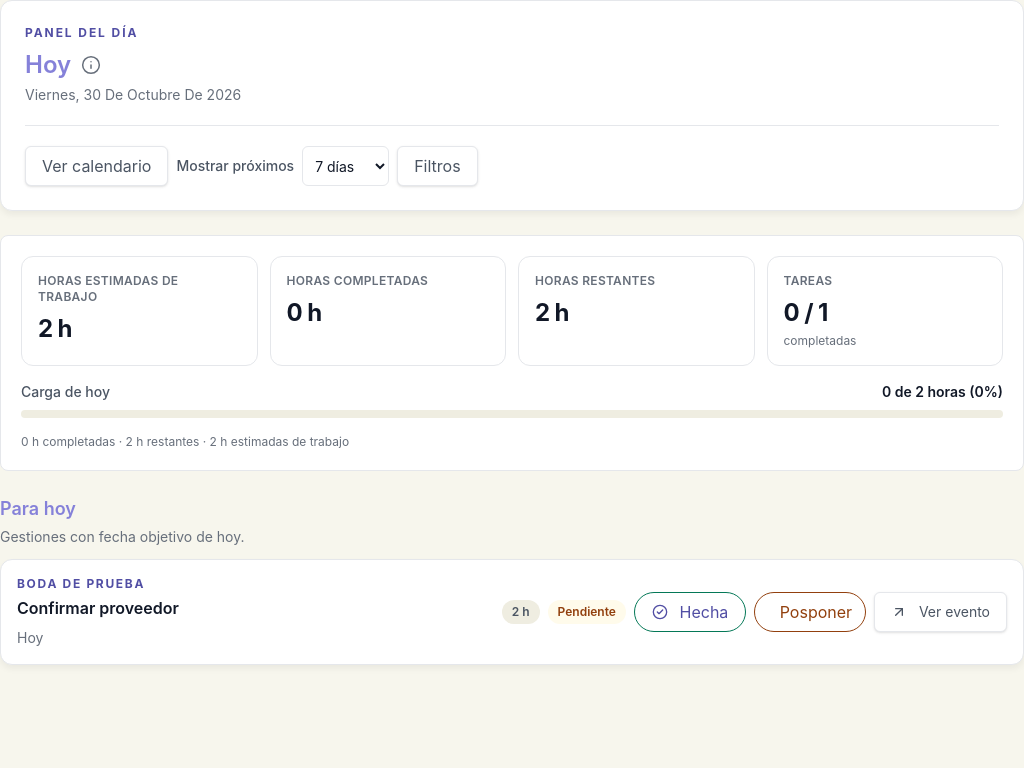
Scenario: panel de hoy: registrar una gestión › exige un motivo al posponer y no envía nada si falta
Click the button "Posponer": x=810, y=612 [754,592,866,632]
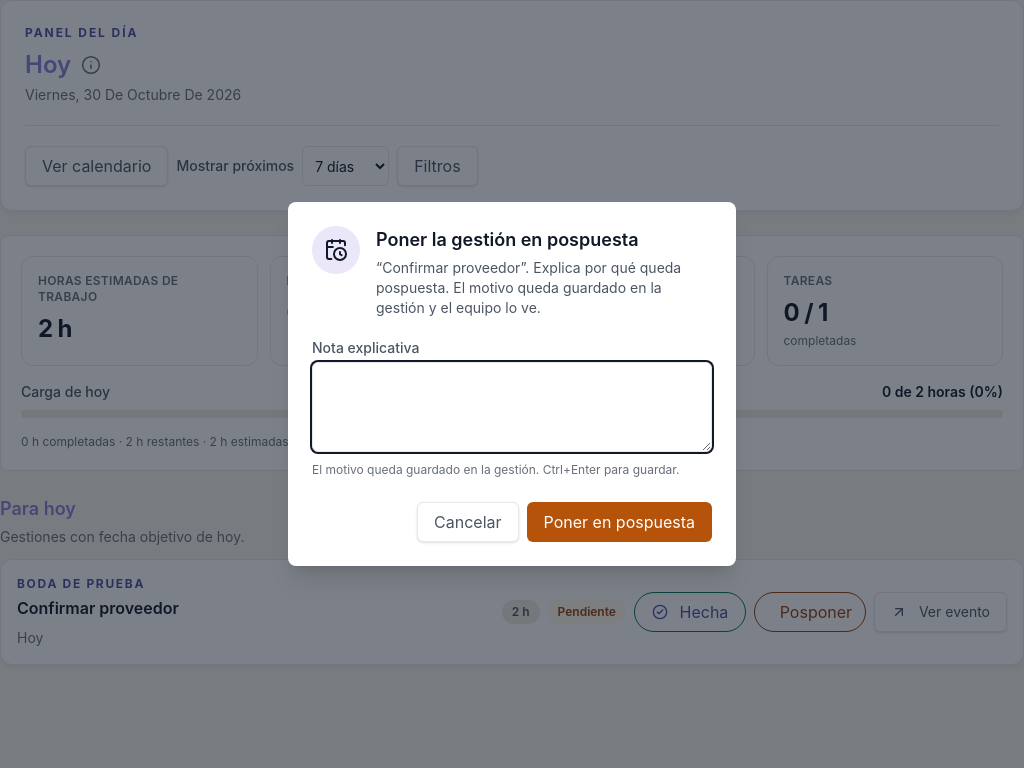
expect the text box labelled "Nota explicativa" is shown: met, box [312,362,712,452]
expect the button "Poner en pospuesta" is shown: met
Click the button "Poner en pospuesta": x=619, y=522 [526,502,712,542]
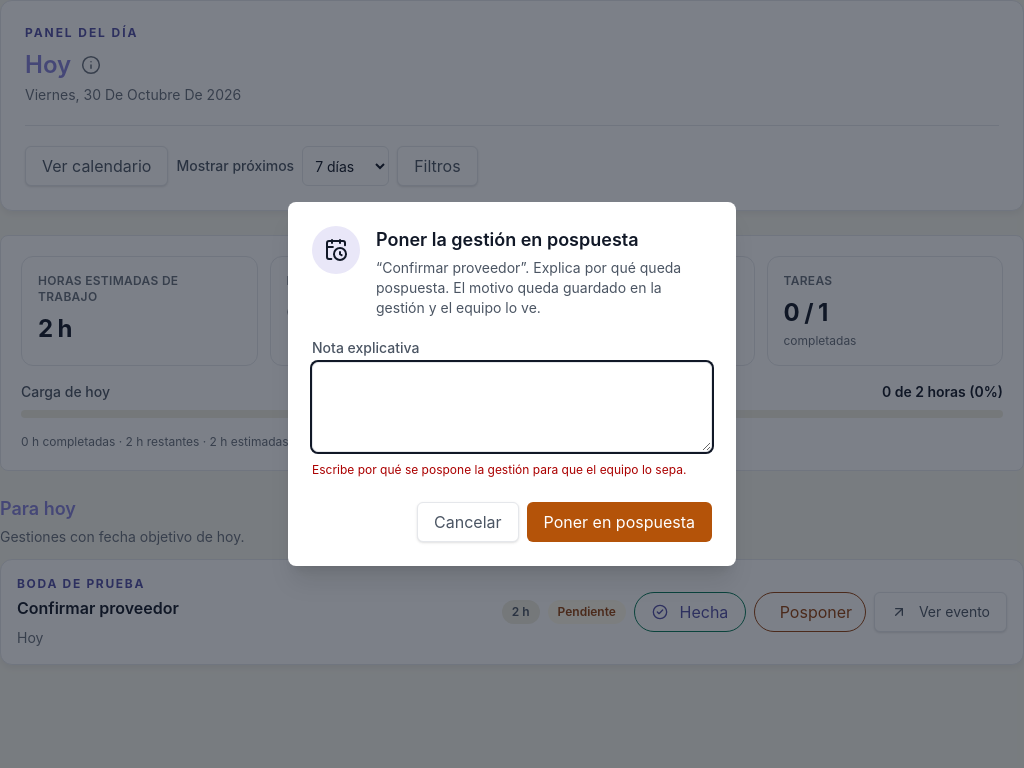
expect the text "por qué se pospone" is shown: met, box [312,462,686,477]
